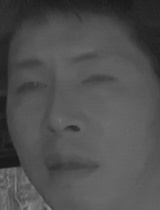eye: (80, 69, 116, 90), (16, 76, 49, 97)
mouth: (41, 147, 99, 182)
